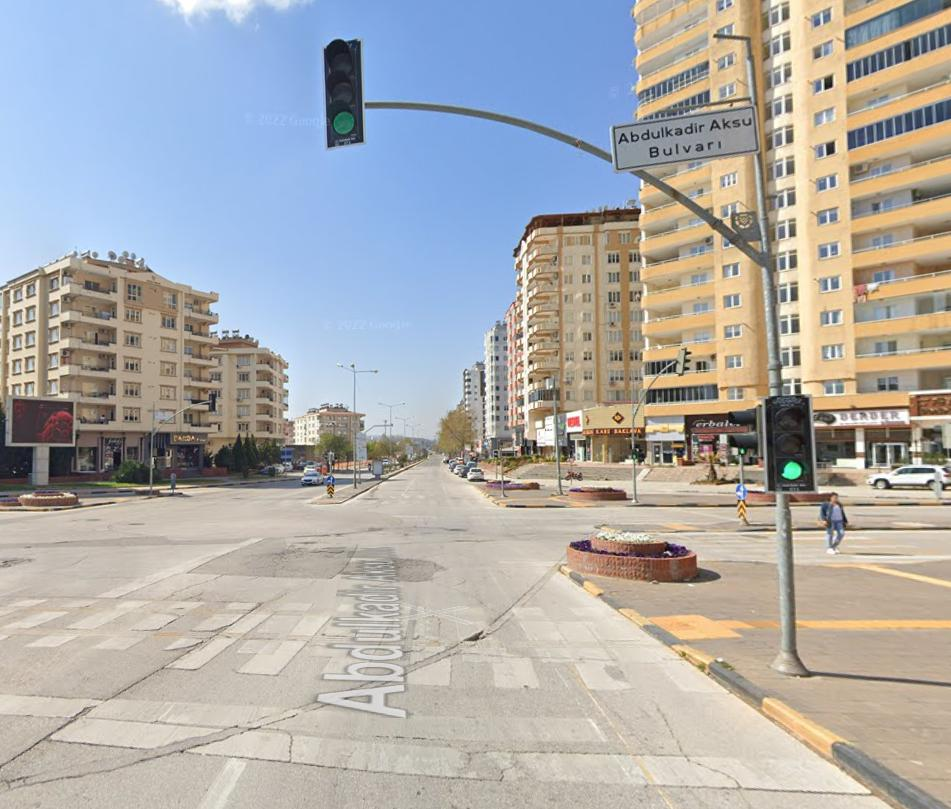greenlight: (322, 35, 368, 146), (767, 397, 813, 494)
